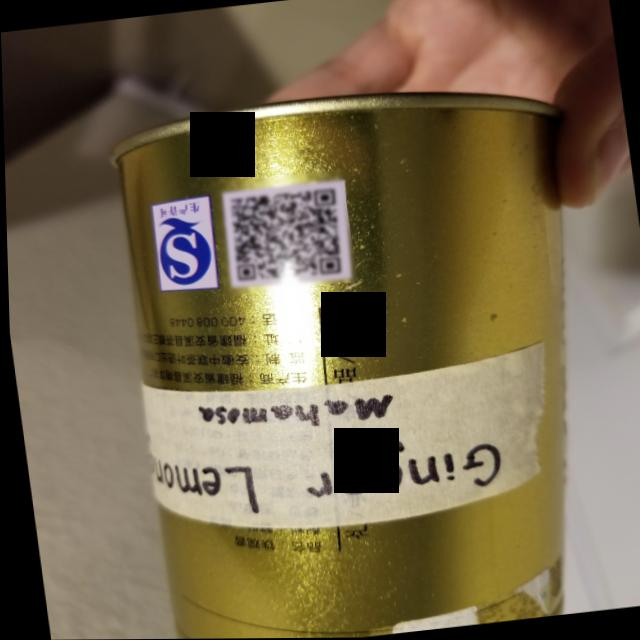QR_CODE: (208, 169, 355, 296)
